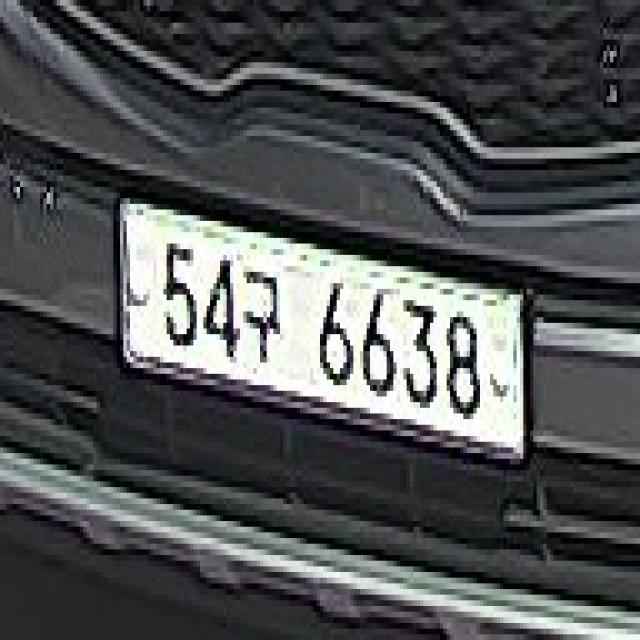3: (397, 283, 440, 419)
4: (200, 221, 243, 374)
5: (157, 227, 200, 346)
6: (357, 277, 400, 413), (314, 261, 354, 402)
8: (444, 283, 484, 436)
gu: (233, 260, 287, 362)
license_plate: (110, 192, 537, 492)
